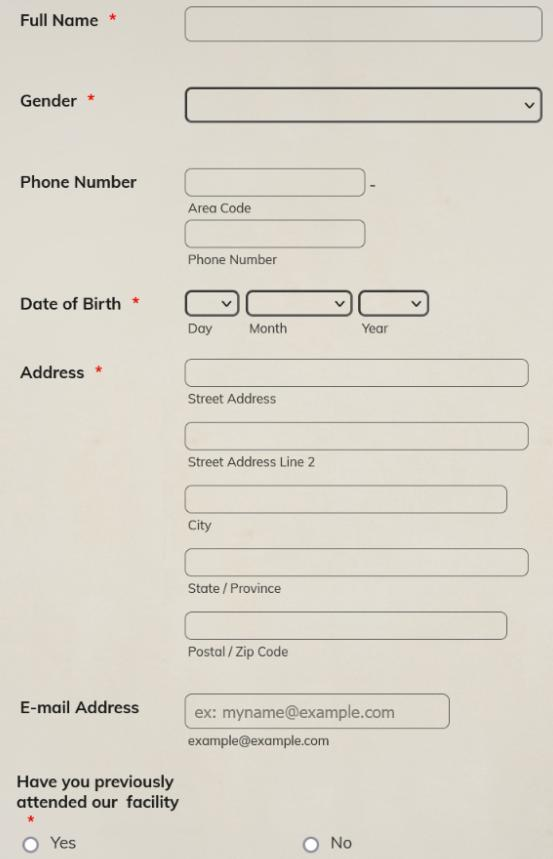dropdown: (185, 86, 545, 127), (246, 288, 355, 320), (357, 289, 430, 318), (185, 290, 241, 319)
input: (184, 7, 545, 43), (185, 482, 509, 516), (183, 358, 530, 389), (184, 692, 450, 732), (183, 548, 531, 576), (186, 612, 509, 642), (187, 421, 531, 449), (185, 166, 368, 199), (183, 216, 369, 248)
label: (15, 775, 181, 817), (11, 698, 142, 723), (21, 294, 149, 319), (14, 358, 104, 388), (14, 174, 140, 195), (19, 8, 120, 33), (18, 88, 103, 117), (185, 252, 283, 269), (186, 200, 259, 218), (49, 830, 80, 854), (248, 323, 286, 339), (332, 835, 356, 856), (186, 324, 217, 338), (359, 325, 393, 335)
radio: (19, 836, 45, 858), (303, 834, 322, 857)
